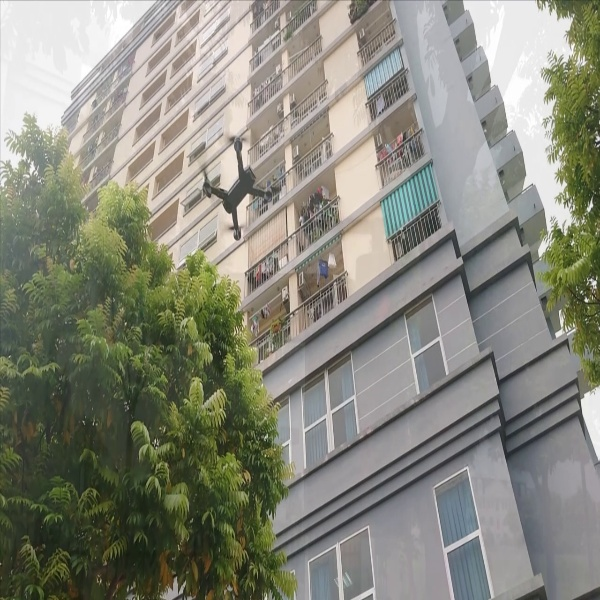drone: (182, 123, 283, 244)
